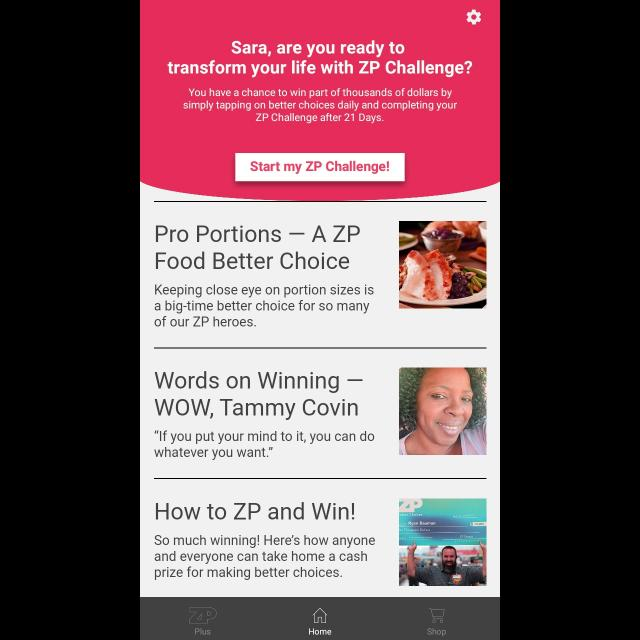icon: (428, 608, 446, 624), (312, 608, 328, 624), (467, 10, 481, 24)
image: (399, 498, 486, 586), (399, 221, 486, 309), (398, 368, 486, 454), (189, 608, 217, 624)
text: (168, 41, 472, 79), (156, 372, 362, 421), (184, 88, 456, 124), (154, 536, 376, 580), (155, 285, 373, 327), (156, 226, 360, 270), (154, 430, 374, 460), (157, 502, 356, 520), (308, 628, 332, 636), (426, 628, 446, 636), (195, 628, 211, 634)
textbutton: (235, 153, 405, 181)
